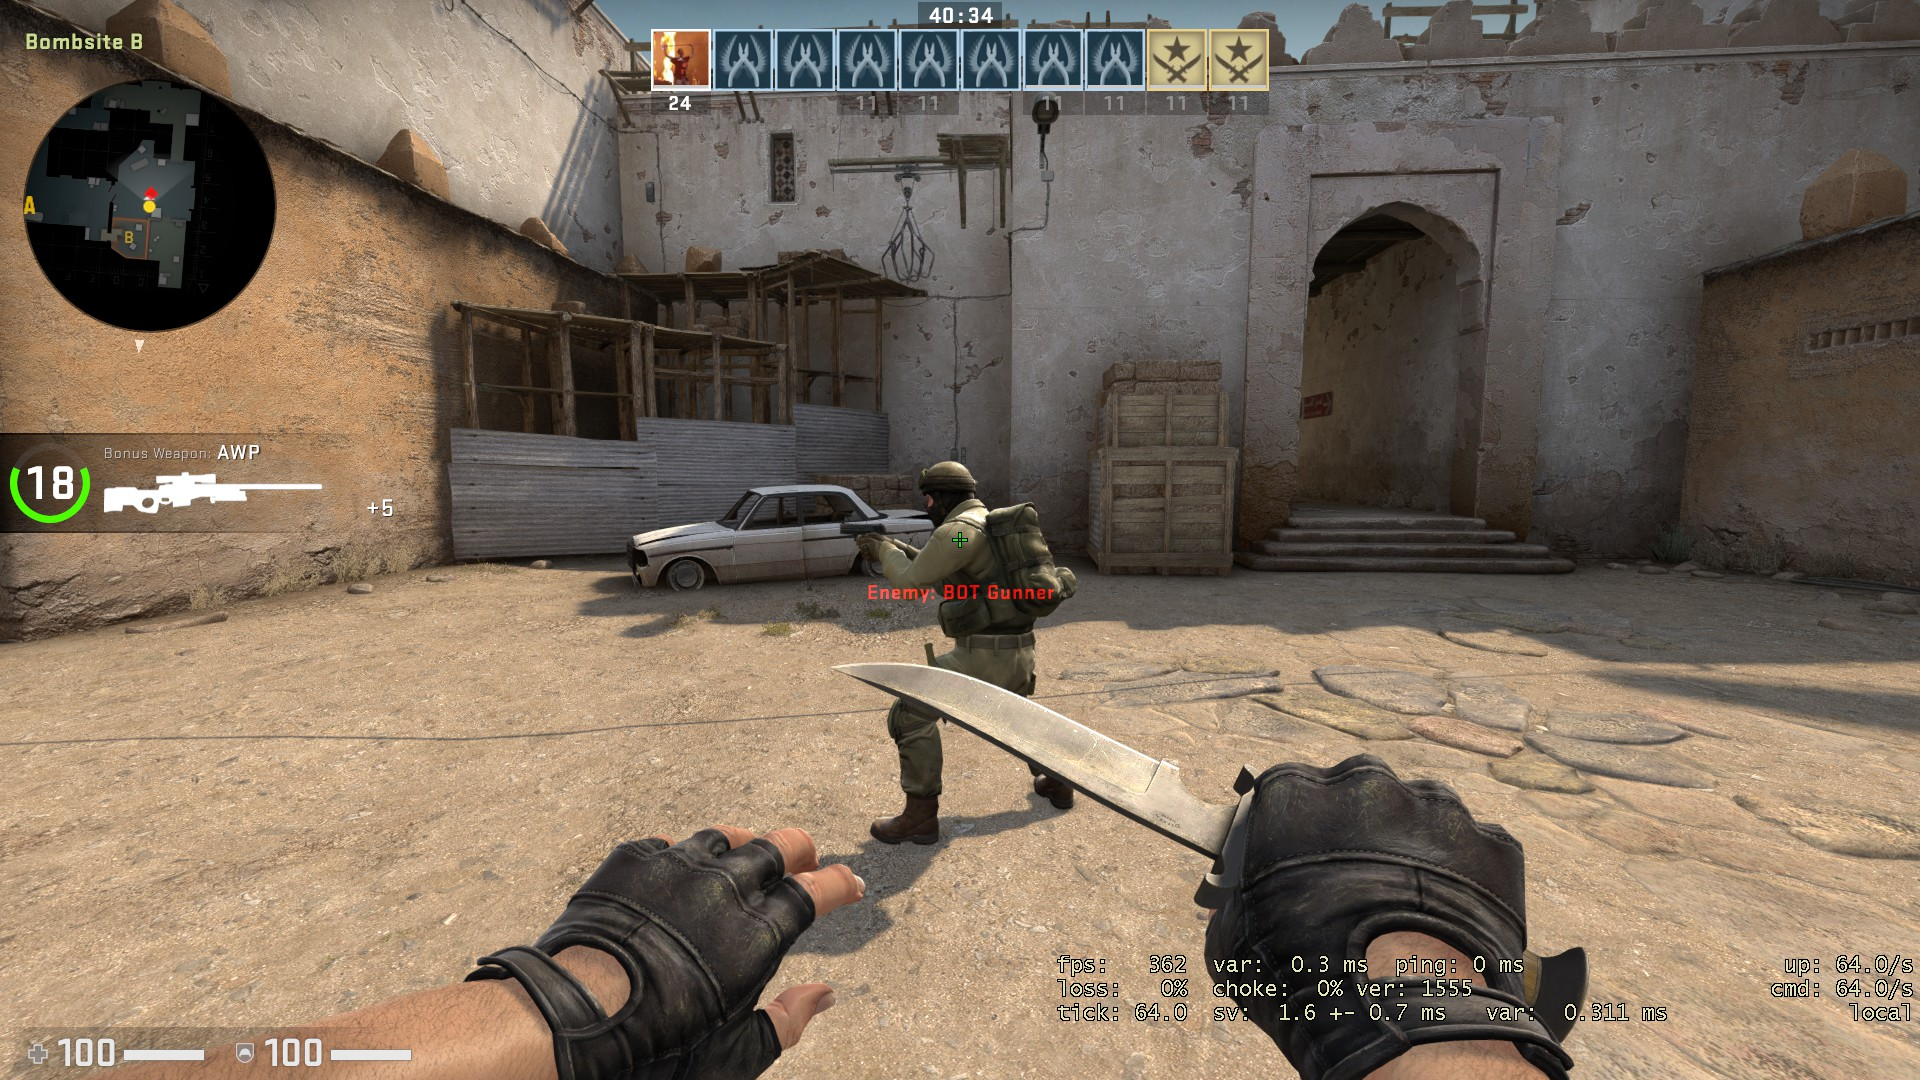player: (832, 452, 1085, 846)
